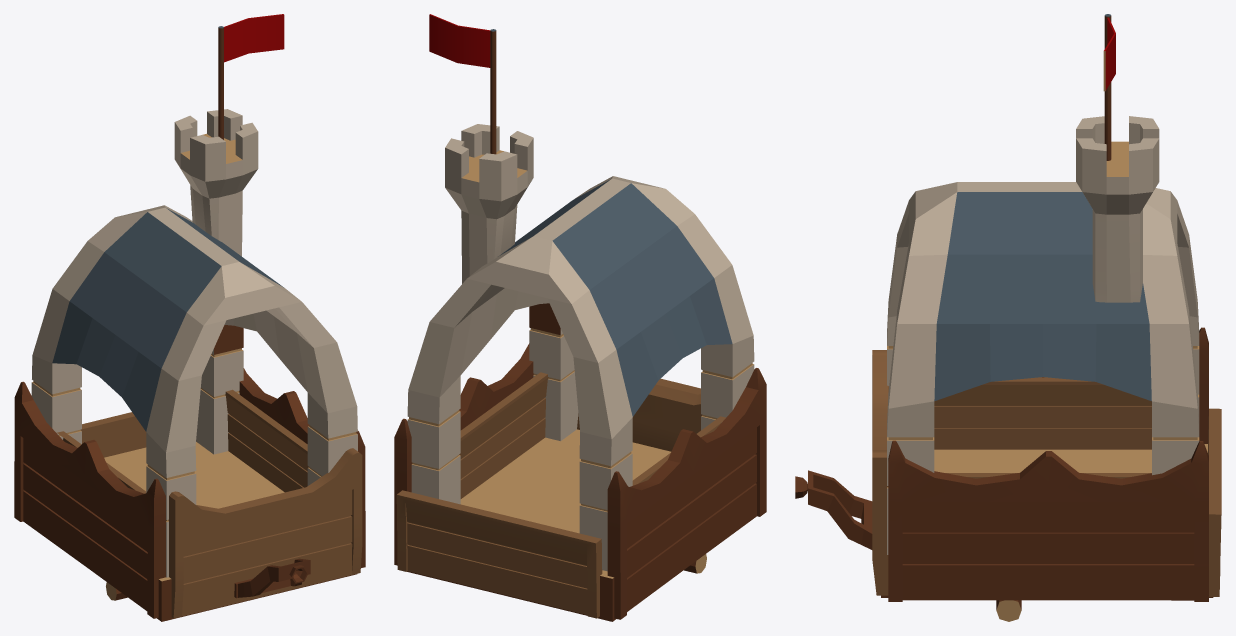
Rendered from Castle_big.fbx.
3 renders of one model, left to right at view 1: azimuth 30°, elevation 25°; view 2: azimuth 150°, elevation 25°; view 3: azimuth 270°, elevation 25°, orthographic. The views are drawn at different scales.
Visible parts, largest first — view 1: polySurface71; view 2: polySurface71; view 3: polySurface71.
Part boxes in pixels (x1=…): polySurface71: x1=14, y1=14, x2=365, y2=621; polySurface71: x1=394, y1=14, x2=766, y2=621; polySurface71: x1=795, y1=14, x2=1221, y2=621.
Size of the model in its own units: 153 by 328 by 217.
